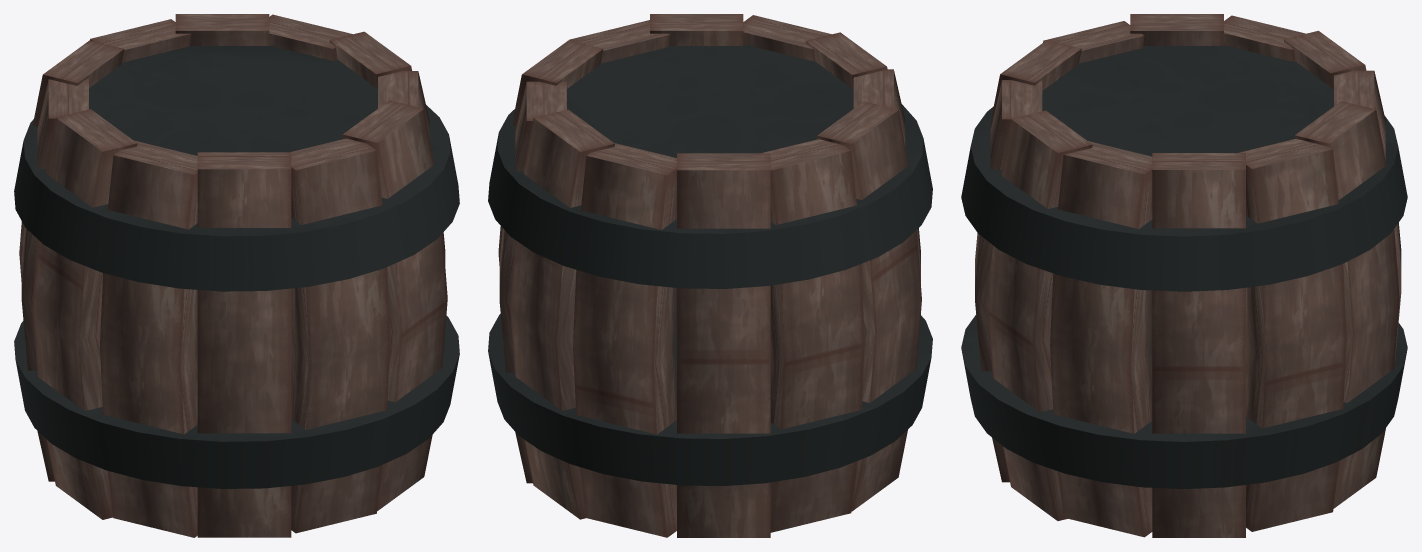
Rendered from Coast Barrel.fbx.
3 views of the same model, side by side, from view 1: azimuth 30°, elevation 25°; view 2: azimuth 150°, elevation 25°; view 3: azimuth 270°, elevation 25° (orthographic).
Parts seen in each view (by area): view 1: Barrel_LOD0; view 2: Barrel_LOD0; view 3: Barrel_LOD0.
Boxes of the visible parts, x1=… form: Barrel_LOD0: x1=14, y1=14, x2=459, y2=537; Barrel_LOD0: x1=488, y1=14, x2=932, y2=537; Barrel_LOD0: x1=961, y1=14, x2=1407, y2=537.
Size of what is drawn, in the model's own units: 494 by 449 by 494.
